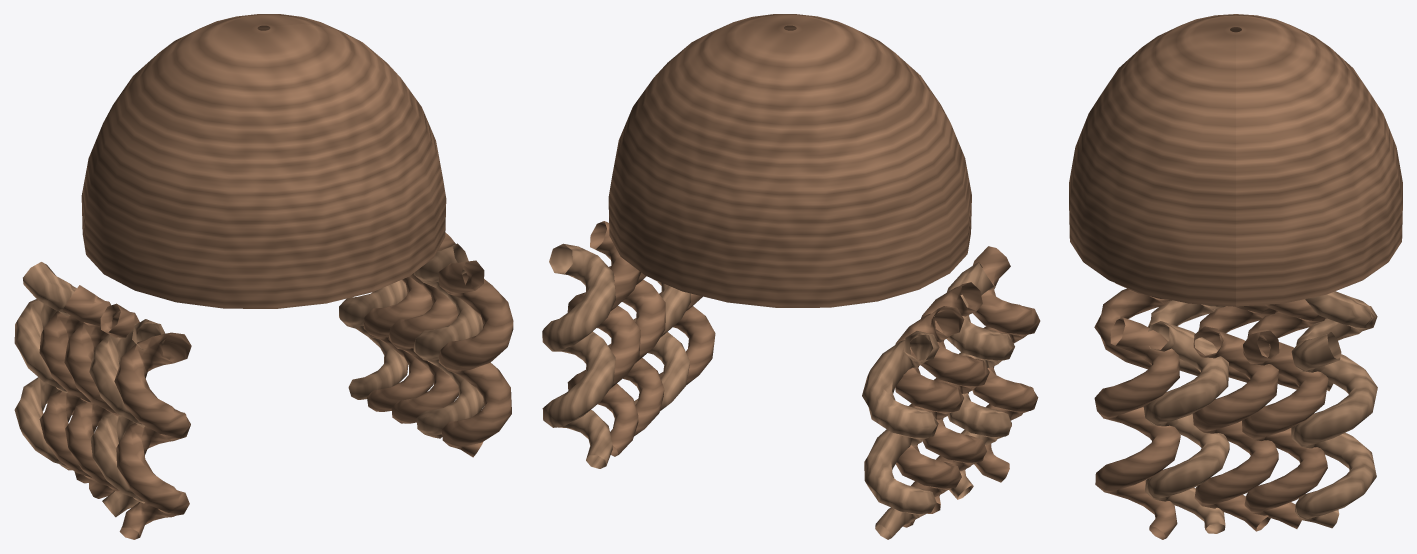
Rendered from hair_court_curls.glb.
3 views of the same model, side by side, from view 1: azimuth 30°, elevation 25°; view 2: azimuth 150°, elevation 25°; view 3: azimuth 270°, elevation 25° (orthographic). The views are drawn at different scales.
Parts seen in each view (by area): view 1: hair_court_curls; view 2: hair_court_curls; view 3: hair_court_curls.
Part boxes in pixels (x1,y1,x2,y2): hair_court_curls: (14, 14, 513, 539); hair_court_curls: (542, 14, 1040, 539); hair_court_curls: (1069, 14, 1402, 539).
Size of the model in its own units: 1.09 by 1.2 by 0.8486.
Materials: 2 (2 with a texture image).
